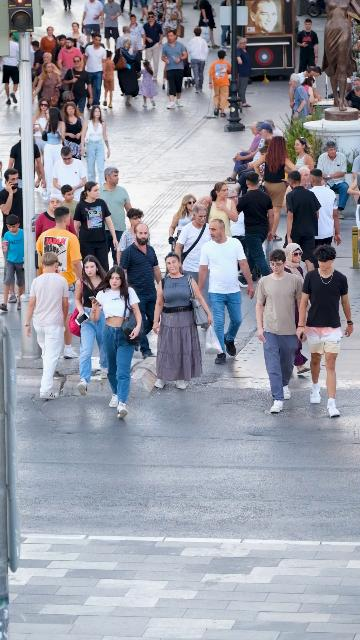person: (296, 244, 354, 418), (89, 265, 146, 420), (151, 251, 214, 390), (254, 248, 306, 412), (197, 219, 255, 365), (35, 206, 83, 360), (25, 251, 70, 401), (118, 223, 162, 359), (74, 254, 111, 395), (73, 180, 119, 274), (236, 171, 274, 283), (280, 242, 310, 377), (284, 171, 323, 274), (263, 136, 300, 244), (220, 123, 272, 197), (98, 166, 133, 266), (174, 204, 211, 283), (8, 128, 46, 200), (309, 168, 341, 253), (315, 141, 349, 219), (81, 105, 111, 190), (0, 215, 26, 312), (41, 108, 66, 195), (200, 182, 239, 237), (60, 55, 93, 119), (162, 30, 189, 108), (0, 168, 24, 251), (35, 193, 75, 241), (117, 207, 148, 267), (52, 146, 87, 197), (84, 33, 107, 110), (113, 38, 139, 106), (224, 188, 247, 263), (169, 193, 198, 252), (233, 121, 266, 172), (208, 50, 232, 118), (185, 27, 209, 94), (59, 101, 84, 159), (1, 34, 21, 105), (143, 11, 163, 81), (32, 62, 62, 108), (235, 38, 253, 108), (296, 19, 319, 73), (287, 73, 311, 124), (101, 0, 122, 57), (128, 14, 146, 79), (57, 37, 84, 79), (197, 0, 220, 48), (81, 0, 104, 46), (162, 0, 184, 47), (137, 59, 158, 108), (347, 155, 360, 234), (32, 98, 51, 151), (291, 137, 315, 174), (100, 51, 115, 108), (252, 136, 273, 175), (34, 52, 62, 79), (60, 184, 79, 219), (39, 26, 58, 59), (31, 40, 45, 84), (304, 76, 320, 114), (68, 23, 88, 53), (305, 66, 322, 100), (220, 0, 231, 48), (297, 167, 316, 193), (149, 0, 167, 25), (116, 26, 135, 49), (52, 34, 66, 65), (346, 84, 360, 112), (265, 119, 284, 138), (345, 76, 360, 100), (297, 66, 316, 83), (139, 0, 151, 24), (120, 0, 133, 15), (63, 0, 71, 11)
